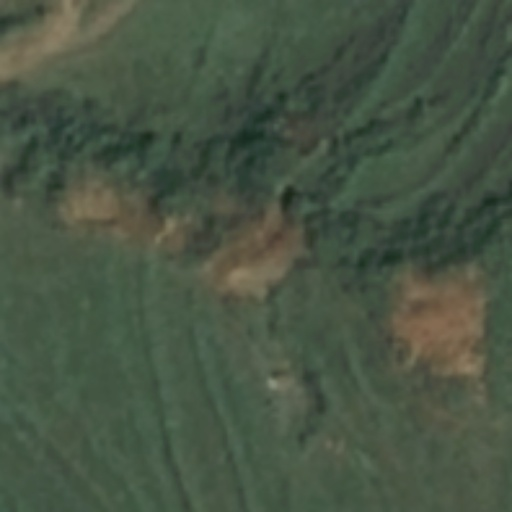landslide: (55, 177, 299, 301), (393, 272, 490, 378)
